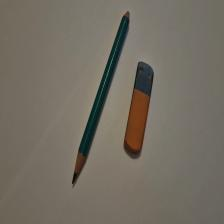eraser: (124, 62, 155, 154)
pencil: (73, 11, 131, 185)
